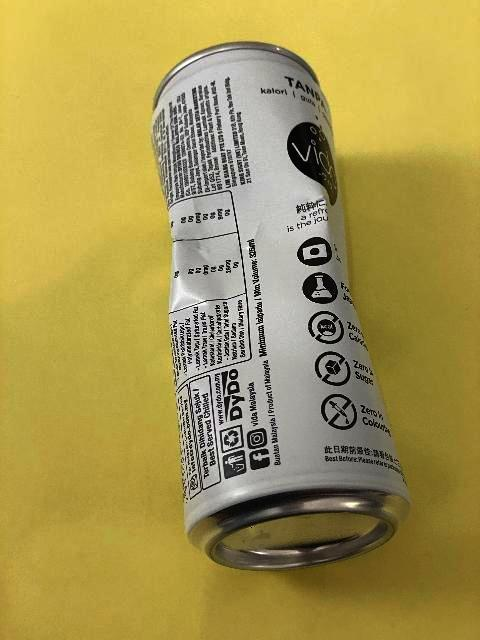drinkcan: (148, 37, 414, 575)
